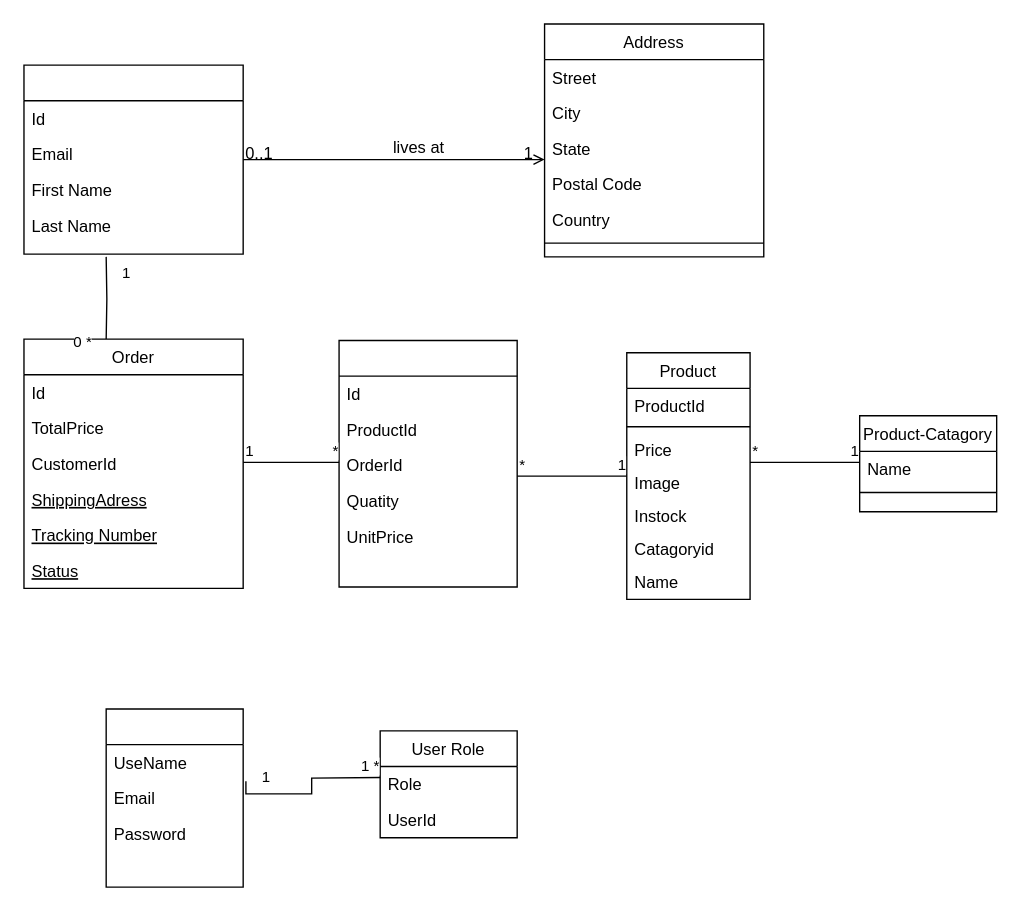
Image size: 1021x911. Some labels were removed from this diagram. Here are the shapes that lost their labels. From the top down, the box of each, then its label:
(23, 64, 243, 254): Customer
(338, 339, 517, 587): OrderItem
(105, 708, 243, 887): User
